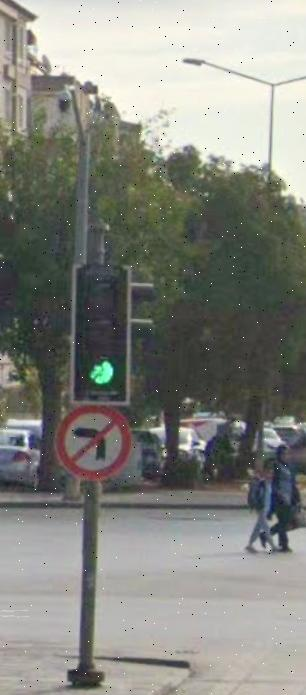greenlight: (78, 265, 124, 398)
leftturnsareforbidden: (59, 411, 126, 477)
